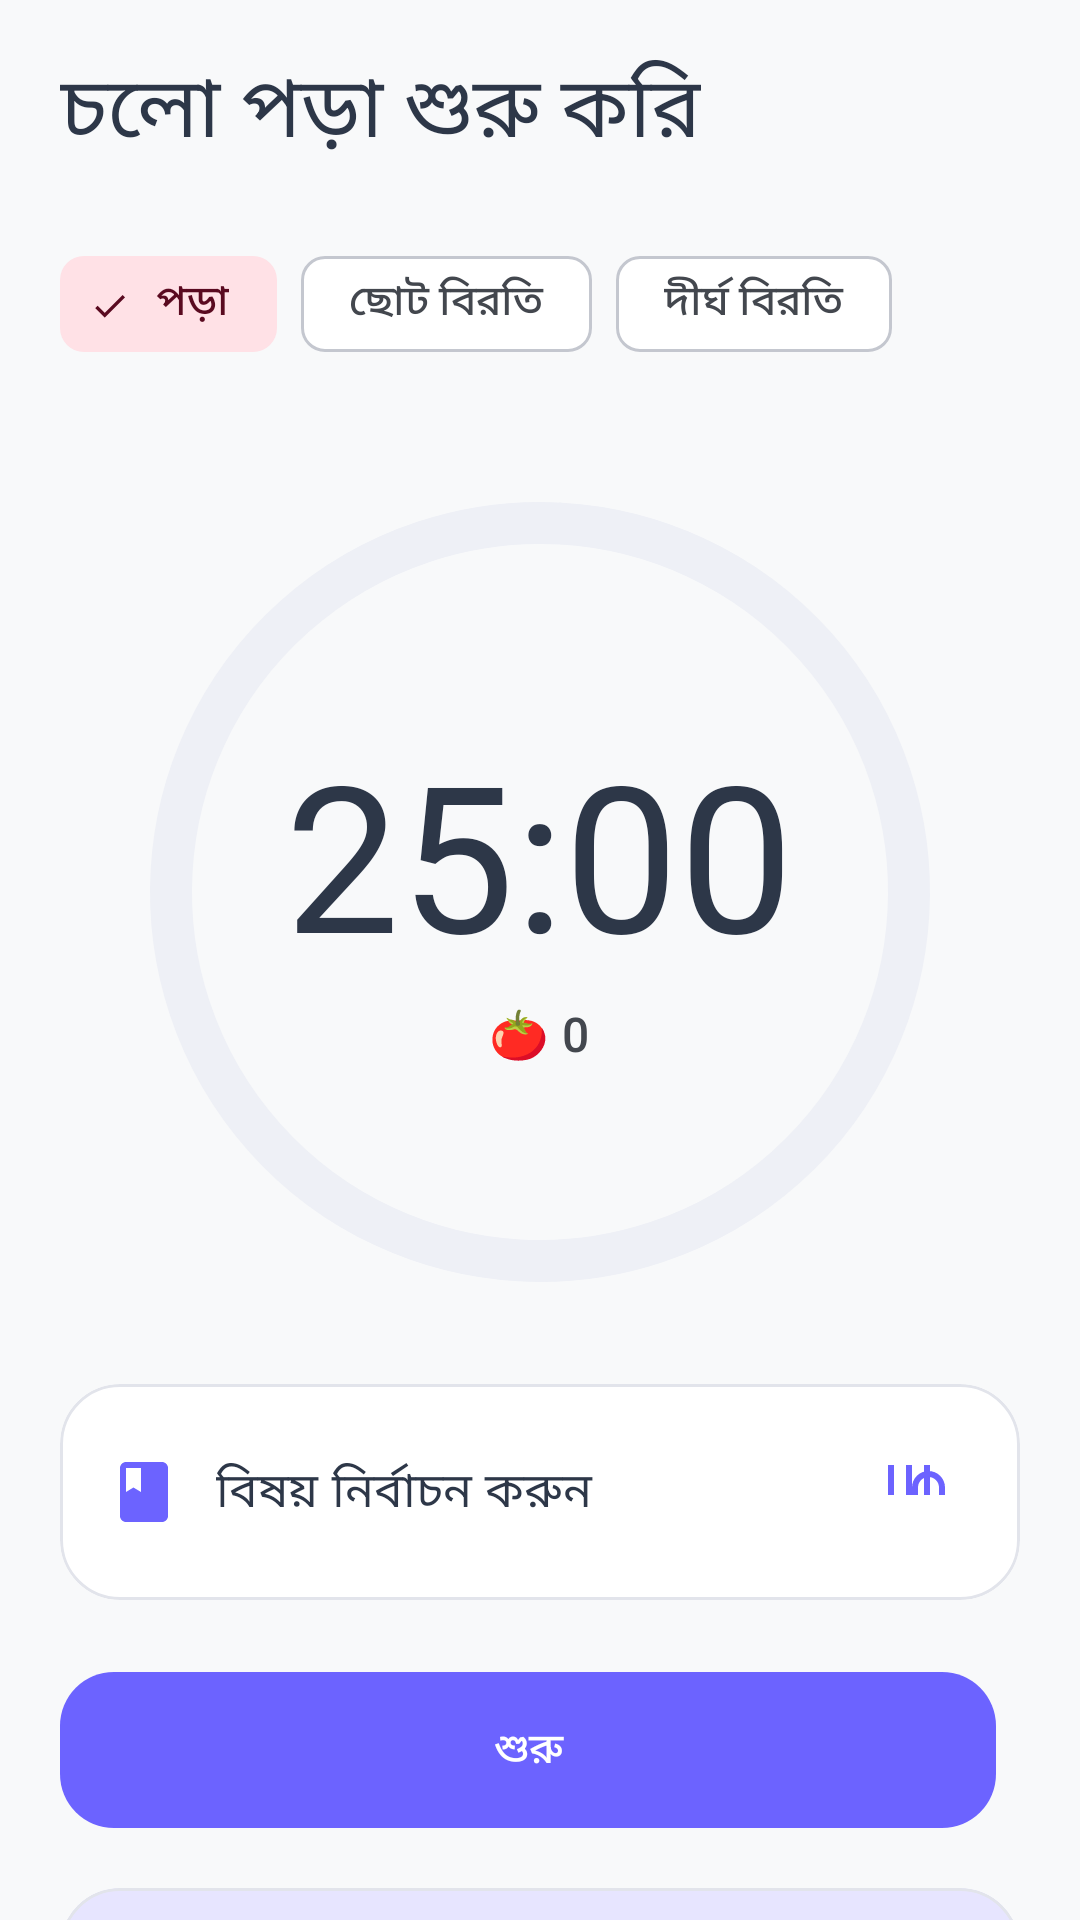

Screen size 1080px×1920px. Icon name, then its box in pixels as (x1, y1, x2, y2):
subject: (120, 1462, 168, 1522)
